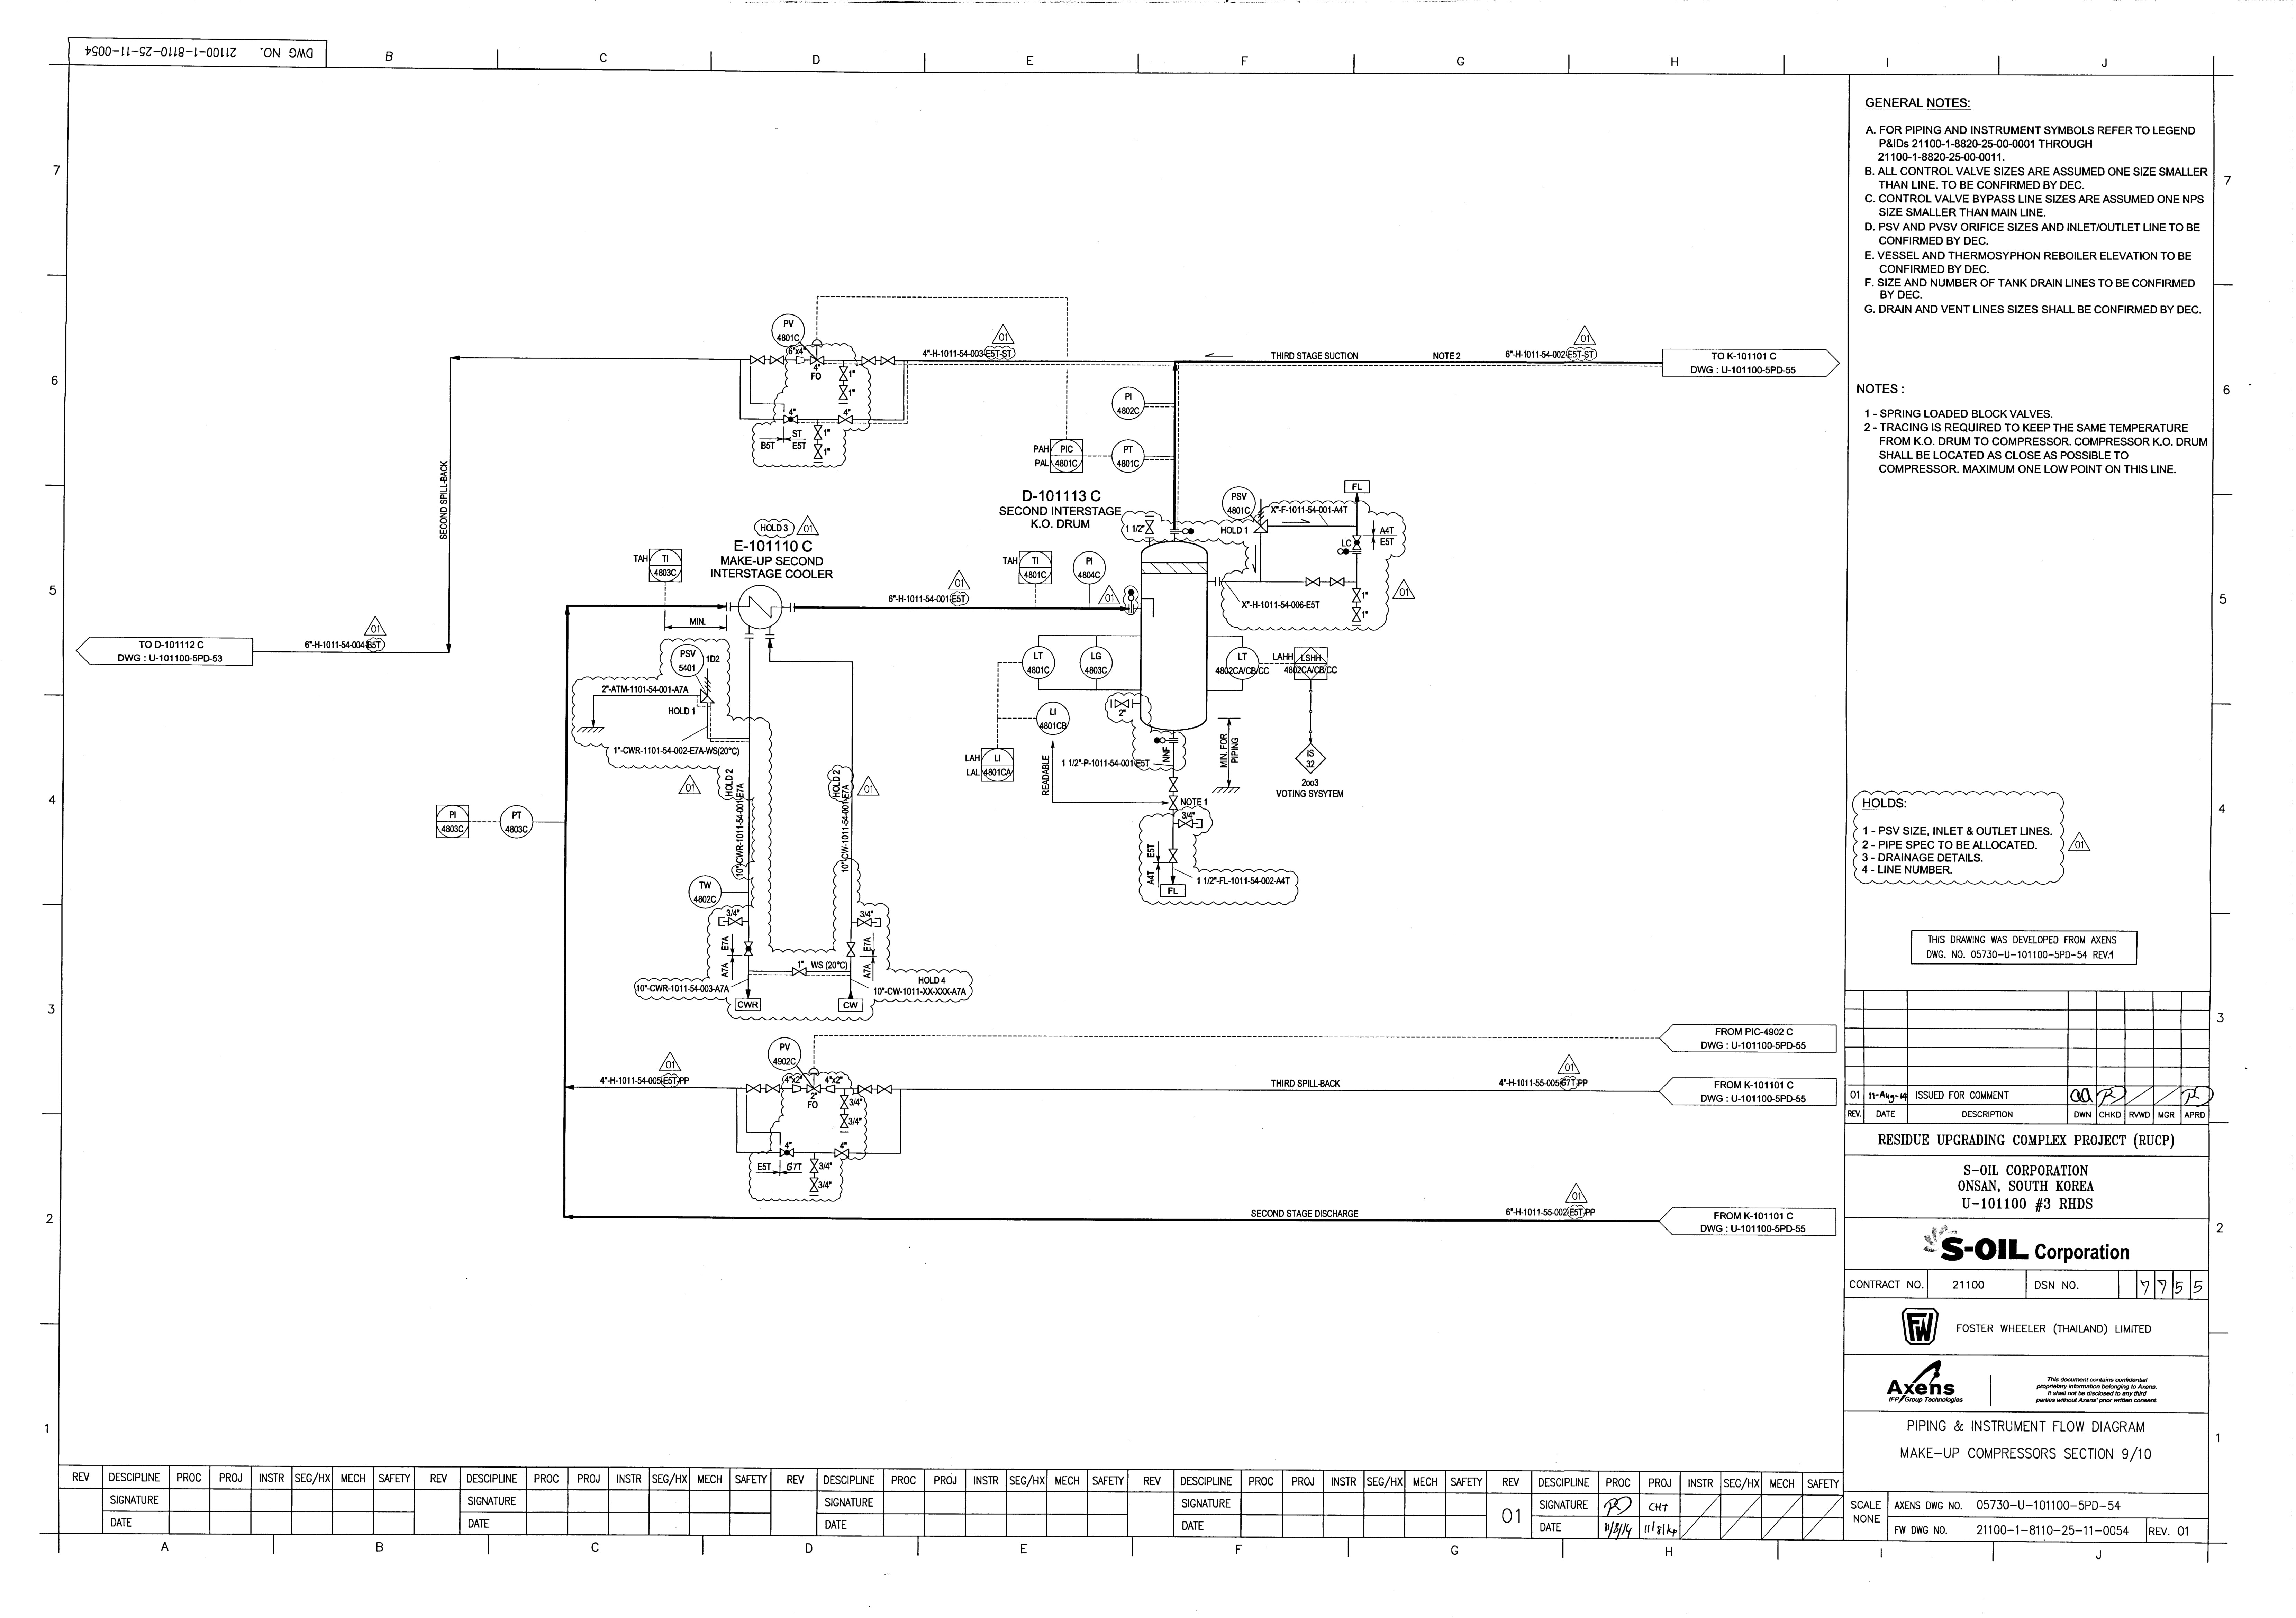butterfly0: (783, 413, 800, 426), (779, 1147, 795, 1157)
butterfly90: (743, 940, 755, 956), (1352, 534, 1363, 550)
reduce0: (792, 1084, 802, 1094), (795, 355, 806, 364)
reduce180: (825, 1084, 837, 1094)
valvecontrol90: (809, 338, 825, 366), (806, 1066, 821, 1094)
